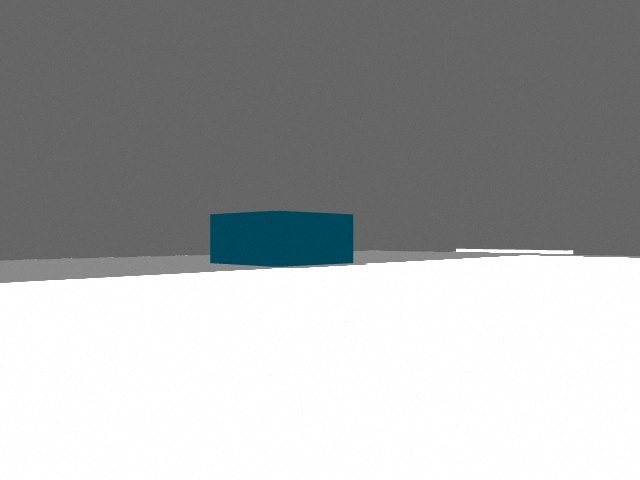blue_drop_zone: (210, 211, 353, 267)
